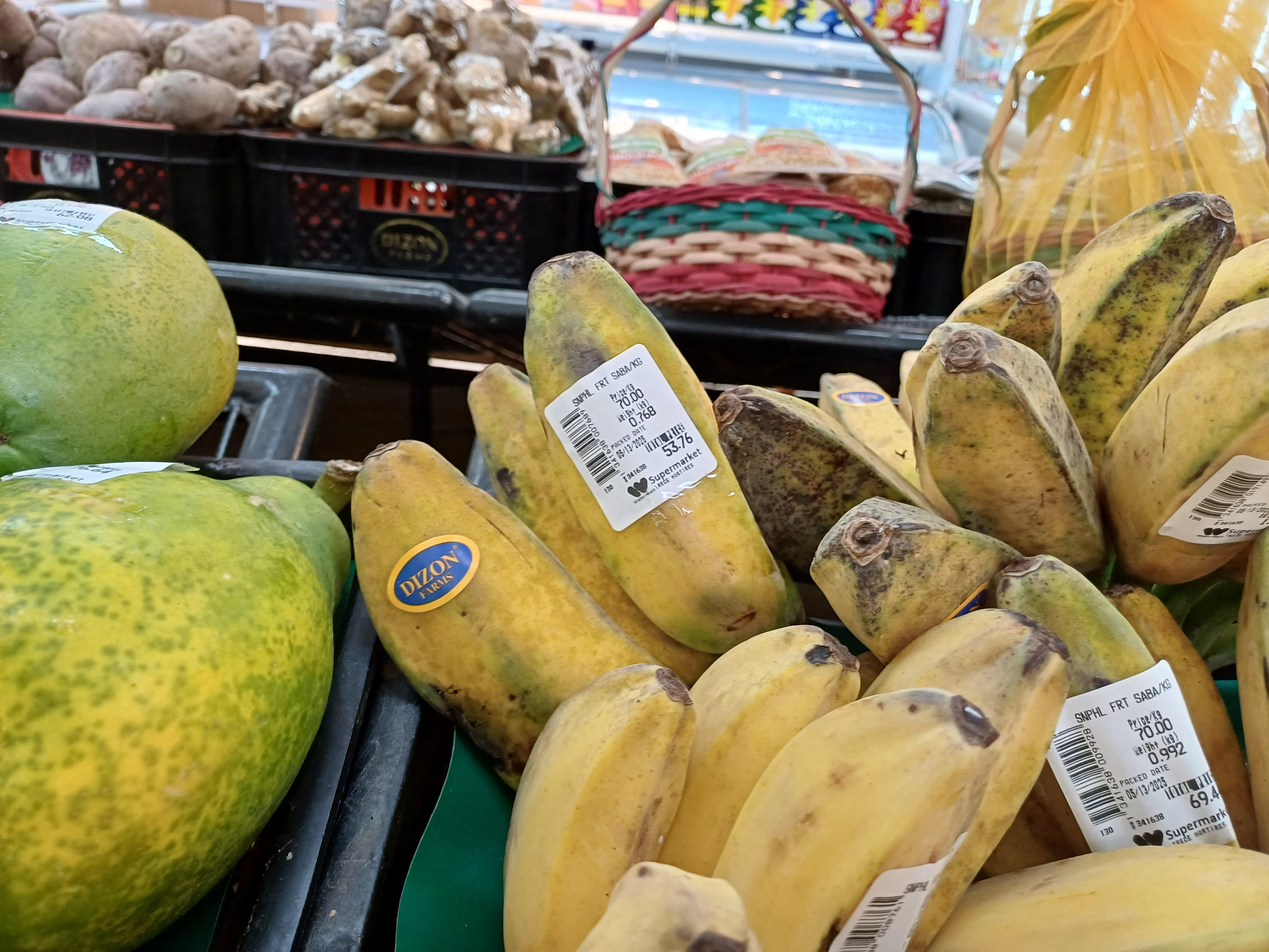ripe: (505, 609, 1269, 952), (715, 192, 1269, 662), (351, 253, 802, 786)
